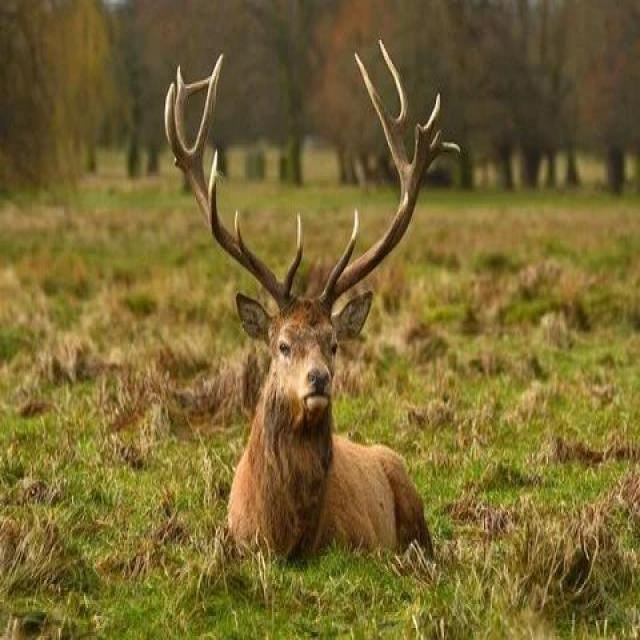deer: (133, 70, 486, 598)
